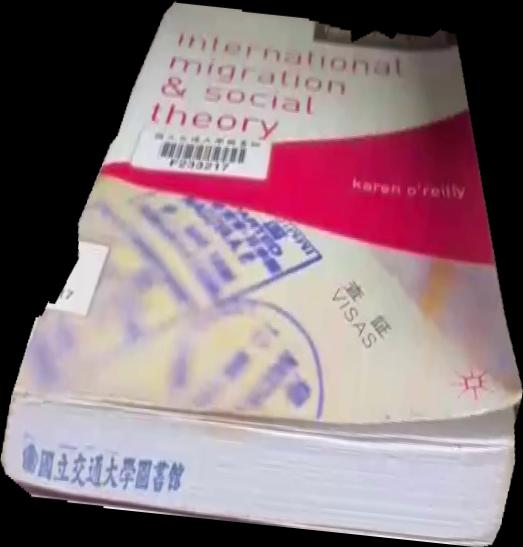flat: (1, 1, 523, 547)
